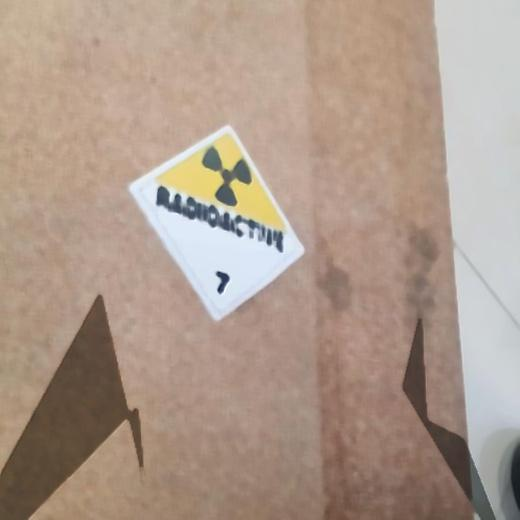radioactive: (125, 113, 308, 327)
